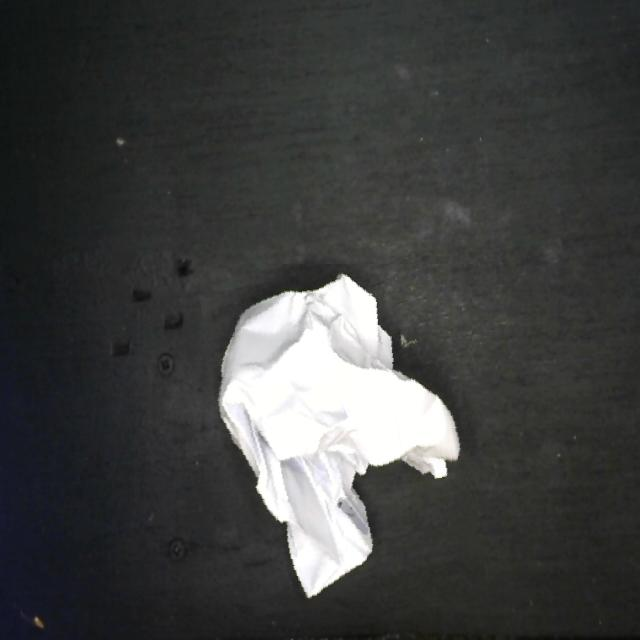biodegradable: (213, 264, 473, 608)
